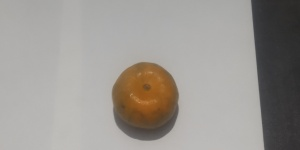BAD: (108, 60, 181, 128)
